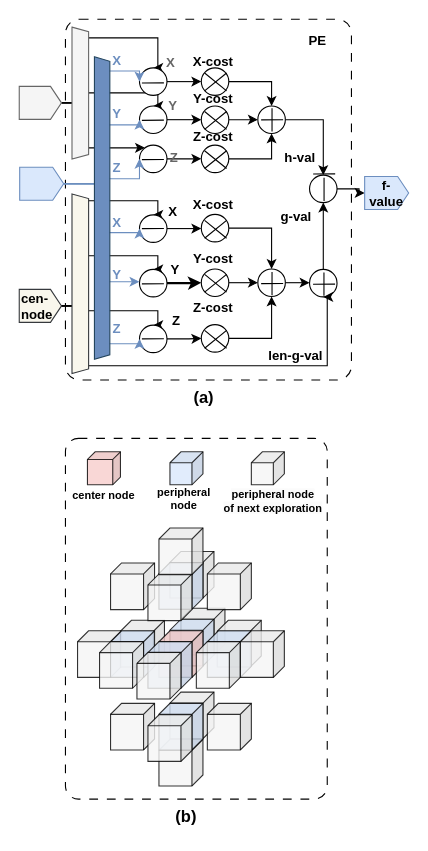
Image size: 428x851. Some labels were removed from this diagram. Here are the shapes that lost their labels. From the top down, the centre of each, then its label:
the point at 39,102: end- node
the point at 41,183: per- node
